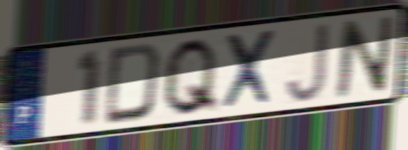1: (75, 49, 102, 129)
D: (101, 40, 165, 128)
J: (284, 20, 332, 105)
N: (333, 13, 397, 101)
Q: (159, 35, 221, 119)
X: (220, 27, 278, 114)
